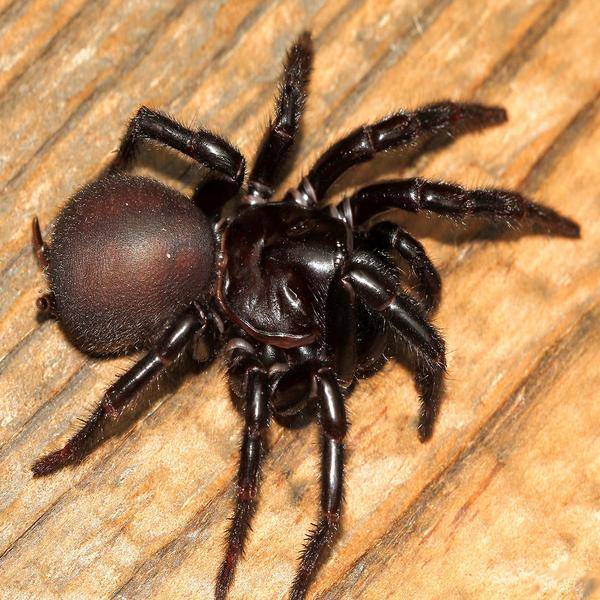Sydney_Funnel_Web_Spider: (31, 31, 582, 600)
